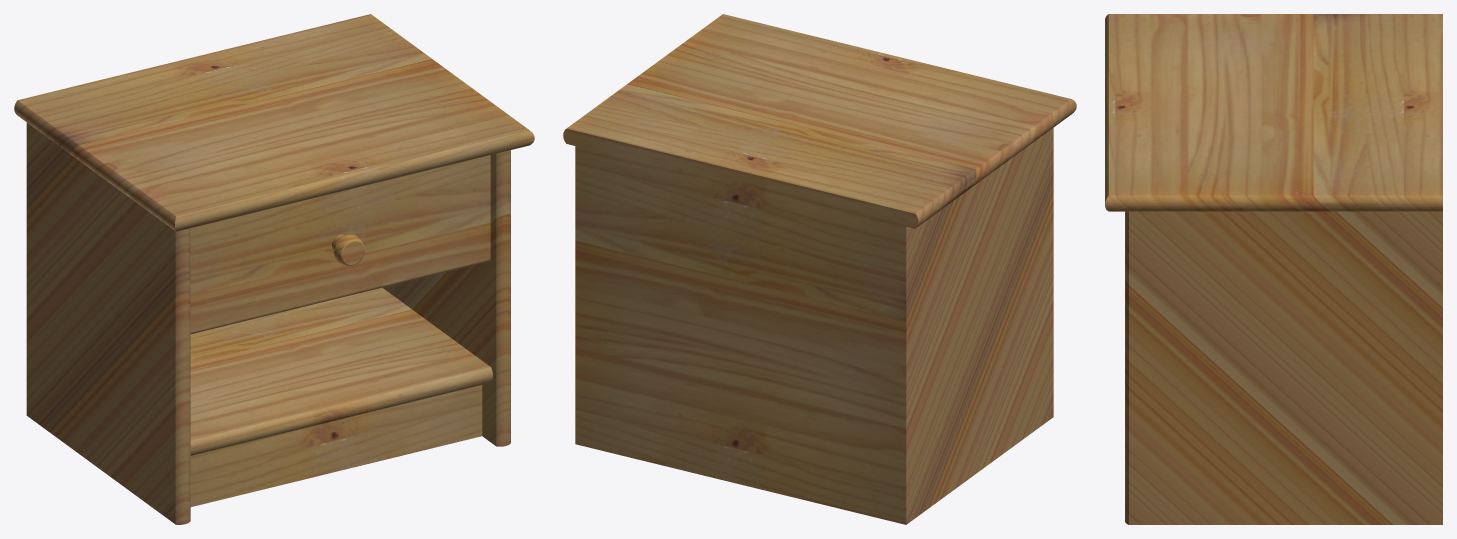
File: bedsidetable.glb
3 views of the same model, side by side, from view 1: azimuth 30°, elevation 25°; view 2: azimuth 150°, elevation 25°; view 3: azimuth 270°, elevation 25° (orthographic). The views are drawn at different scales.
Visible parts, largest first — view 1: default_1_1_1; view 2: default_1_1_1; view 3: default_1_1_1.
Part boxes in pixels (x1=…): default_1_1_1: x1=14, y1=14, x2=534, y2=524; default_1_1_1: x1=563, y1=14, x2=1076, y2=524; default_1_1_1: x1=1105, y1=14, x2=1442, y2=524.
Size of the model in its own units: 44 by 37.1 by 34.
1 material, 1 textured.
